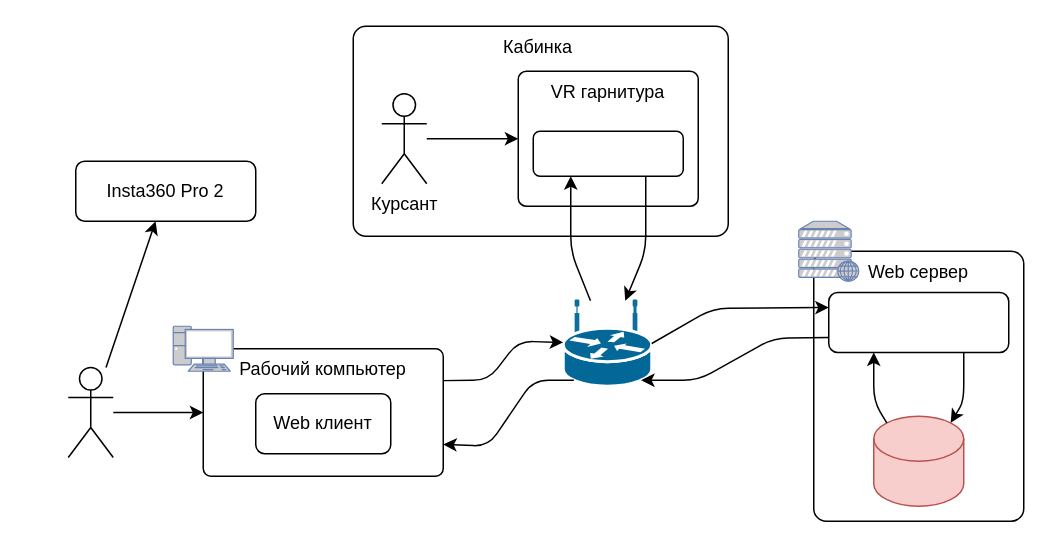
Image size: 1050x548. Some labels were removed from this diagram. The centre of each missing label's shape, as x and y in pixels:
"RESTful Web API" goes at pixel 918 321.
"SQLite" goes at pixel 918 460.
"VR приложение" goes at pixel 607 153.
"Преподаватель" goes at pixel 90 412.
